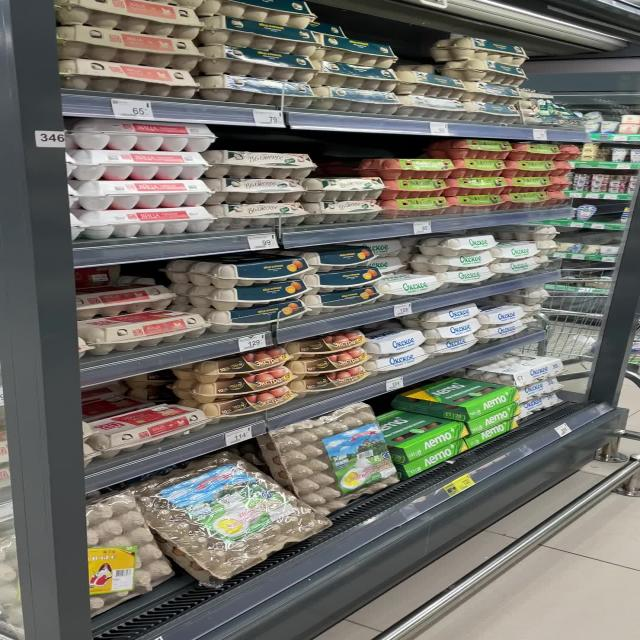egg box: (128, 475, 320, 559), (268, 421, 393, 499), (54, 28, 198, 68), (64, 54, 197, 97), (73, 110, 210, 149), (190, 38, 314, 81), (194, 76, 319, 112), (91, 406, 206, 445), (66, 150, 215, 179), (73, 314, 208, 345), (73, 209, 232, 235), (201, 15, 310, 52), (198, 144, 310, 176), (364, 408, 448, 448), (192, 386, 306, 415), (59, 1, 191, 26), (73, 180, 210, 204), (294, 81, 396, 112), (300, 30, 396, 62), (201, 172, 310, 200), (446, 48, 535, 80), (211, 302, 322, 327), (408, 379, 504, 407), (398, 443, 473, 478), (303, 58, 390, 85), (198, 284, 310, 304), (223, 203, 322, 224), (182, 374, 310, 390), (448, 34, 529, 59), (474, 356, 558, 380), (372, 274, 452, 299), (367, 350, 452, 373), (298, 198, 391, 219), (286, 371, 382, 390), (268, 334, 363, 353), (192, 352, 292, 370), (417, 232, 504, 252), (372, 158, 461, 177), (424, 264, 499, 286), (201, 258, 298, 275), (78, 289, 180, 305), (486, 259, 566, 278), (401, 70, 464, 94), (467, 422, 529, 446), (441, 195, 518, 214), (472, 322, 544, 342), (448, 102, 514, 122), (282, 353, 369, 368), (391, 99, 459, 118), (452, 155, 518, 174), (303, 177, 386, 192), (453, 138, 514, 157), (382, 198, 452, 214), (296, 265, 376, 279), (308, 288, 376, 304), (419, 253, 495, 267), (480, 305, 538, 323), (467, 78, 518, 98), (294, 246, 371, 259), (378, 180, 454, 193), (516, 86, 564, 106), (422, 306, 481, 322), (524, 109, 575, 127), (454, 171, 502, 190), (510, 384, 568, 398), (424, 337, 478, 352), (488, 247, 561, 258), (358, 335, 424, 347), (457, 414, 528, 425), (505, 174, 555, 189), (510, 188, 549, 206), (524, 401, 563, 419), (566, 170, 594, 194), (604, 144, 632, 166), (509, 161, 564, 172), (576, 106, 597, 134), (588, 168, 608, 194), (604, 174, 627, 195), (424, 323, 475, 332), (518, 144, 556, 156), (574, 142, 596, 161), (595, 115, 612, 134)
